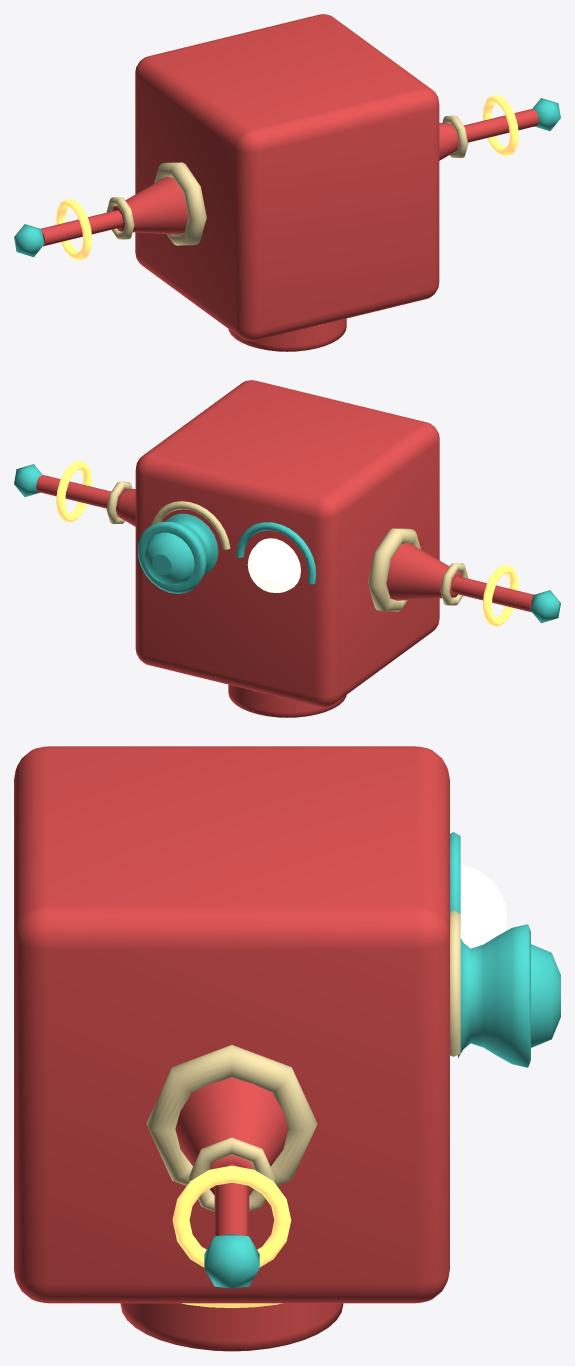
Rendered from ToyRobotHead.fbx.
3 views of the same model, one above another, from view 1: azimuth 30°, elevation 25°; view 2: azimuth 150°, elevation 25°; view 3: azimuth 270°, elevation 25° (orthographic). The views are drawn at different scales.
Parts seen in each view (by area): view 1: Arm_base_2.002; view 2: Arm_base_2.002; view 3: Arm_base_2.002.
Part boxes in pixels (x1=…): Arm_base_2.002: x1=14, y1=14, x2=560, y2=351; Arm_base_2.002: x1=14, y1=380, x2=560, y2=717; Arm_base_2.002: x1=14, y1=746, x2=560, y2=1351.
Bounding box in the file's own units: 1422 × 671 × 663.
